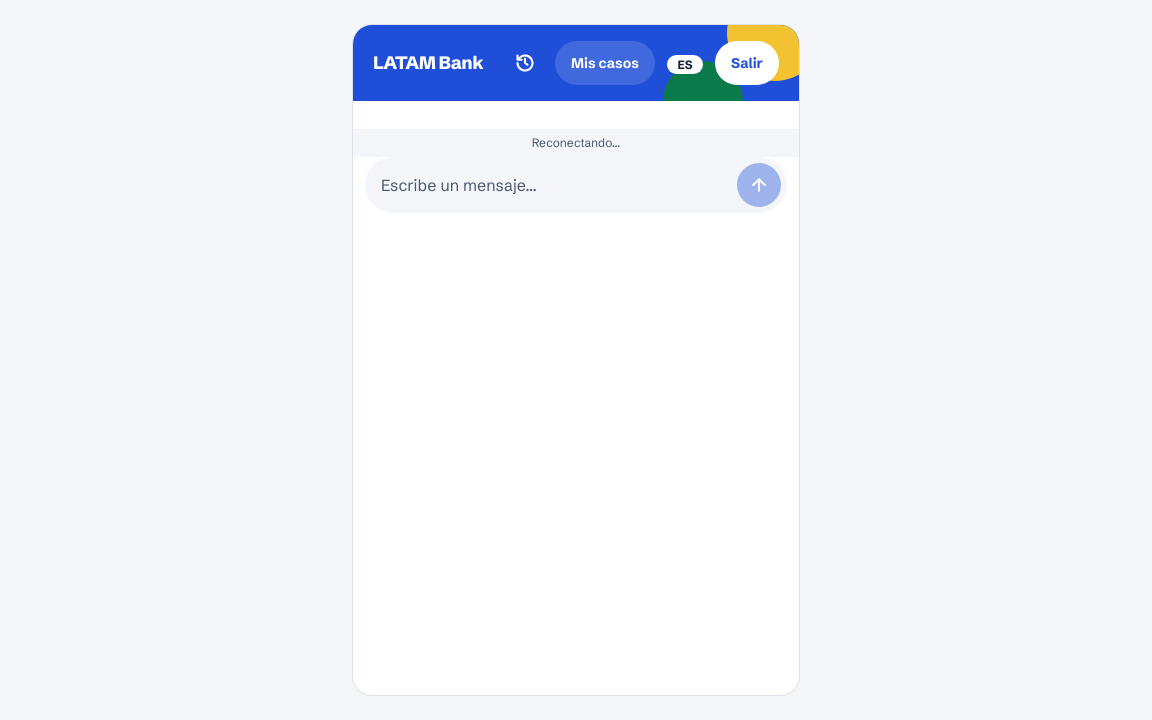
Test: conversation history drawer › hide is offered only for past ones, confirms, then removes the row
What coordinates should you click on to do the following:
click the button named "Conversaciones"
I would click on:
 (525, 63)
Its box is [503,41,547,85].
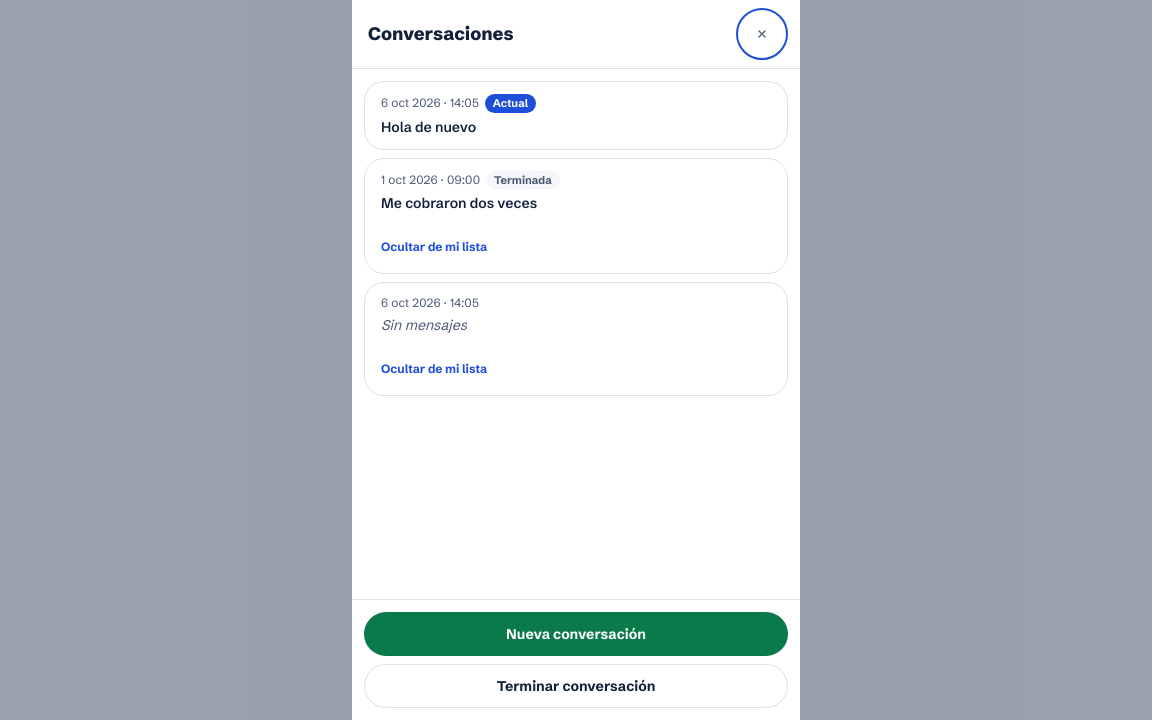
Expected: the text "Me cobraron dos veces" is shown, [381,193,537,213]
What coordinates should you click on to do the following:
click the 1st button "Ocultar de mi lista"
I would click on:
 (434, 247)
Its box is [373,225,495,269].
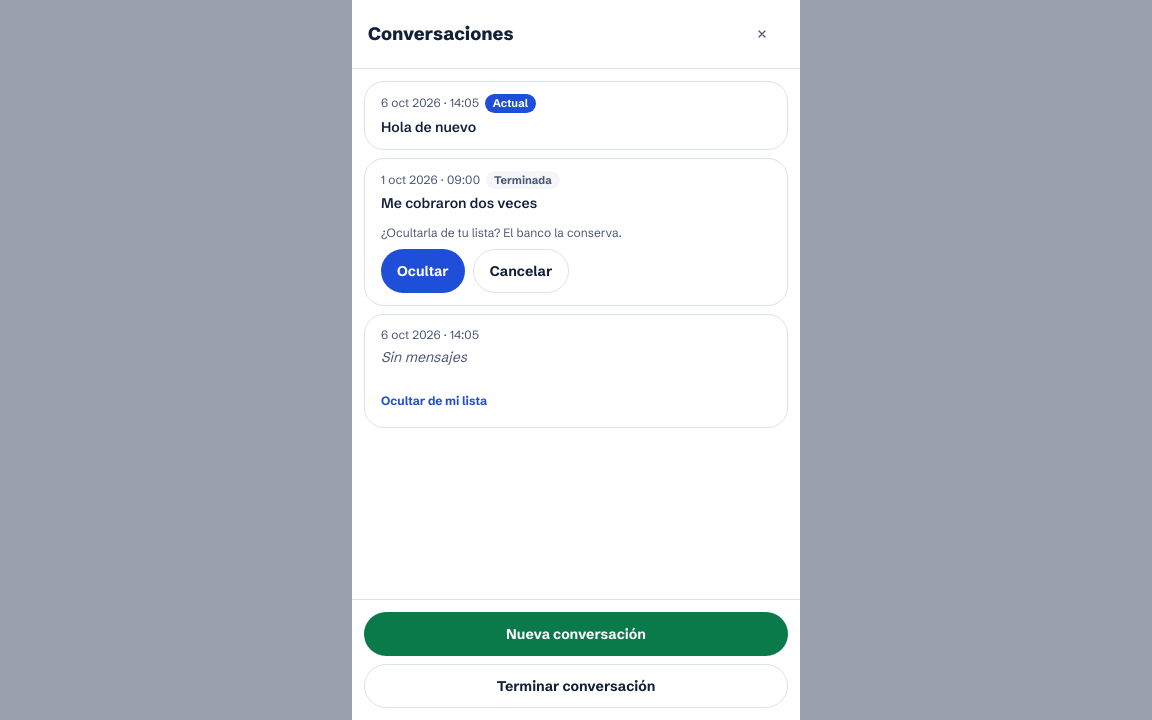
What coordinates should you click on to do the following:
click the button "Ocultar"
I would click on:
 (423, 271)
Its box is [381,249,465,293].
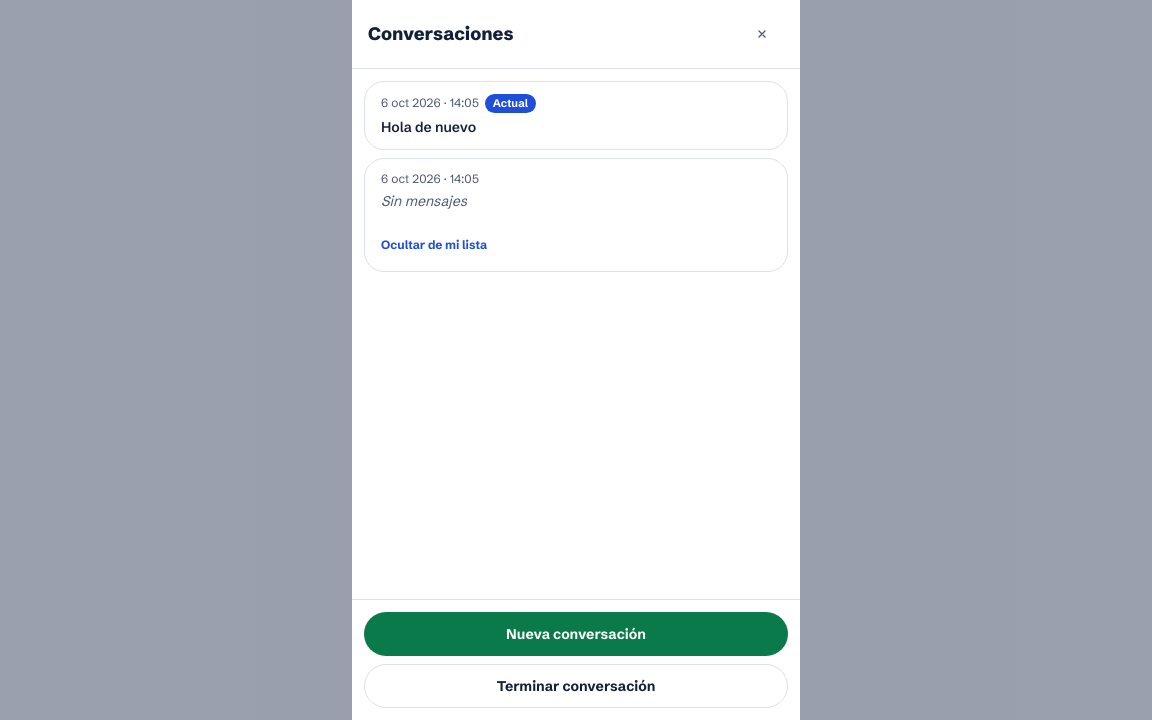
Expected: the number of list items is 2, [364,81,788,150]; [364,158,788,272]
Expected: the button "Me cobraron dos veces" is gone
